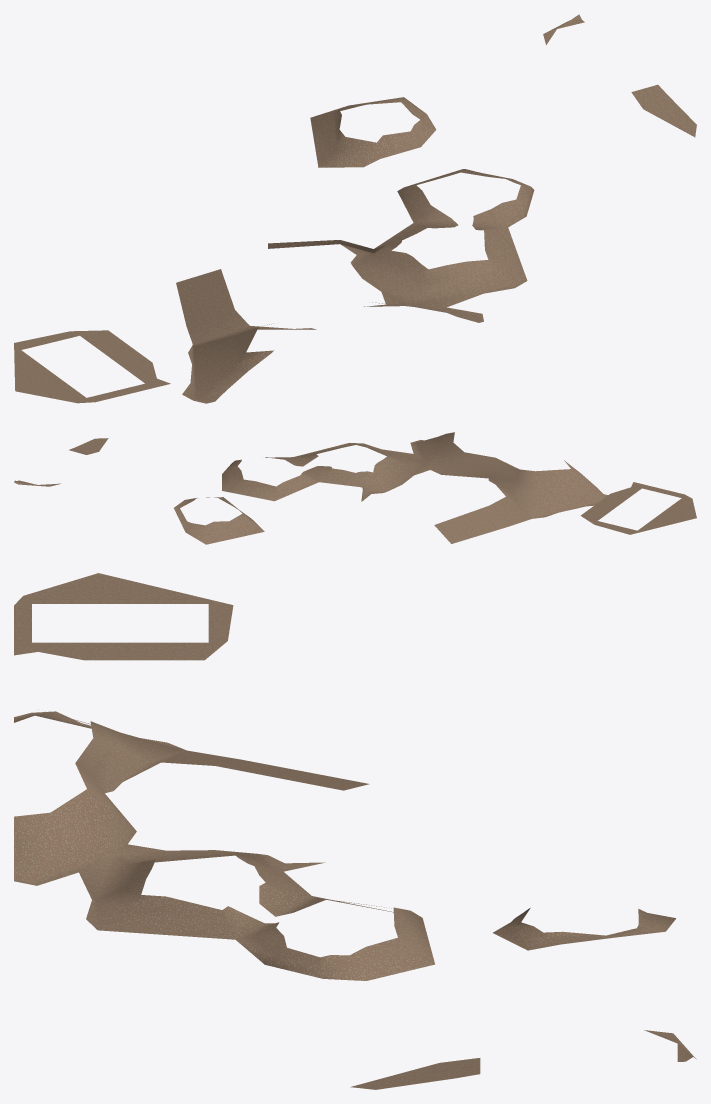
File: kd_stage_13612f_0_16_bounded.glb
The picture shows the model from 3 angles, top to bottom: view 1: azimuth 30°, elevation 25°; view 2: azimuth 150°, elevation 25°; view 3: azimuth 270°, elevation 25°; orthographic projection. The views are drawn at different scales.
Visible parts, largest first — view 1: kd_stage_13612f_0_16_bounded; view 2: kd_stage_13612f_0_16_bounded; view 3: kd_stage_13612f_0_16_bounded.
Boxes of the visible parts, left/top/right/bottom form: kd_stage_13612f_0_16_bounded: left=14, top=14, right=696, bottom=403; kd_stage_13612f_0_16_bounded: left=14, top=432, right=696, bottom=544; kd_stage_13612f_0_16_bounded: left=14, top=573, right=696, bottom=1089.
Bounding box in the file's own units: 115 × 7.49 × 64.12.
1 material, 1 textured.
